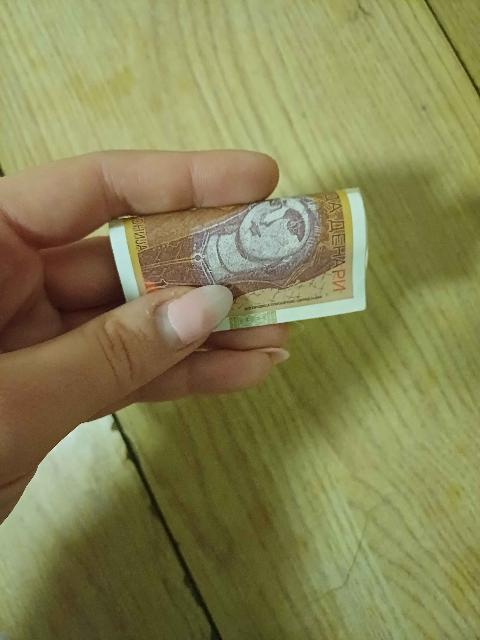note: (110, 190, 366, 329)
